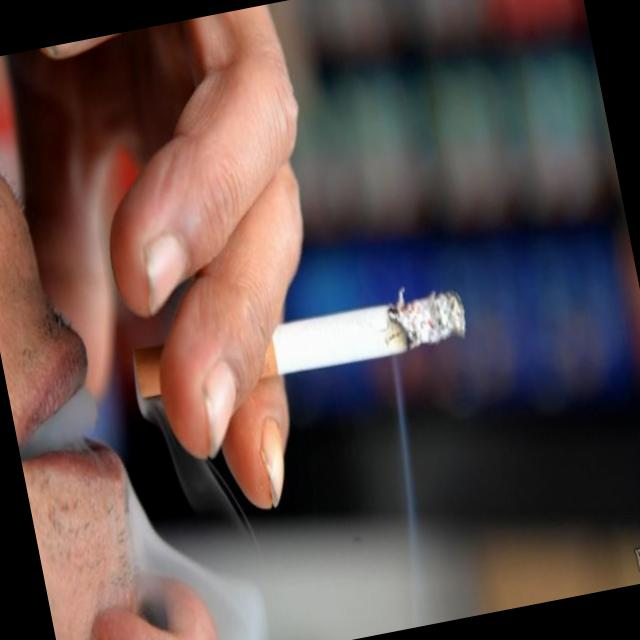smoke: (122, 273, 476, 418)
